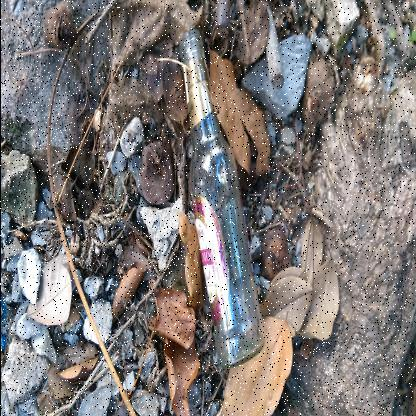glass: (178, 27, 266, 371)
